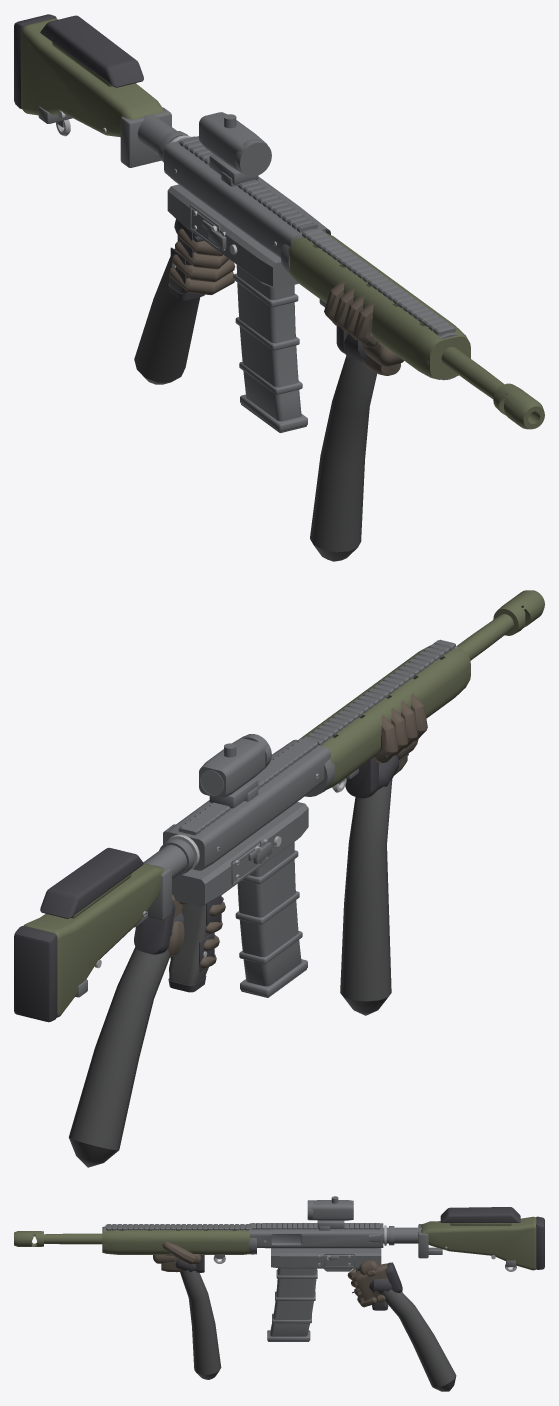
Rendered from dmr14.fbx.
3 views of the same model, one above another, from view 1: azimuth 30°, elevation 25°; view 2: azimuth 150°, elevation 25°; view 3: azimuth 270°, elevation 25° (orthographic). The views are drawn at different scales.
Visible parts, largest first — view 1: dmr14, HandLeft, Magazine, HandRight; view 2: dmr14, HandLeft, HandRight, Magazine; view 3: dmr14, HandRight, HandLeft, Magazine.
Part boxes in pixels (box(x1,y1,x2,y2)): dmr14: box(14, 14, 544, 429); HandLeft: box(310, 281, 403, 561); Magazine: box(233, 265, 307, 432); HandRight: box(134, 219, 235, 384); dmr14: box(14, 590, 544, 1022); HandLeft: box(340, 693, 427, 1015); HandRight: box(68, 894, 225, 1167); Magazine: box(235, 842, 307, 997); dmr14: box(14, 1196, 544, 1310); HandRight: box(347, 1260, 456, 1391); HandLeft: box(153, 1230, 221, 1379); Magazine: box(267, 1268, 317, 1341).
Size of the model in its own units: 0.1101 by 0.4 by 1.03.
